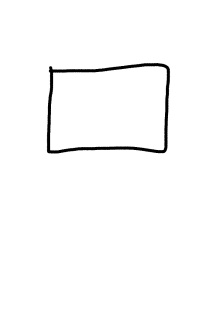Square: (42, 61, 175, 160)
